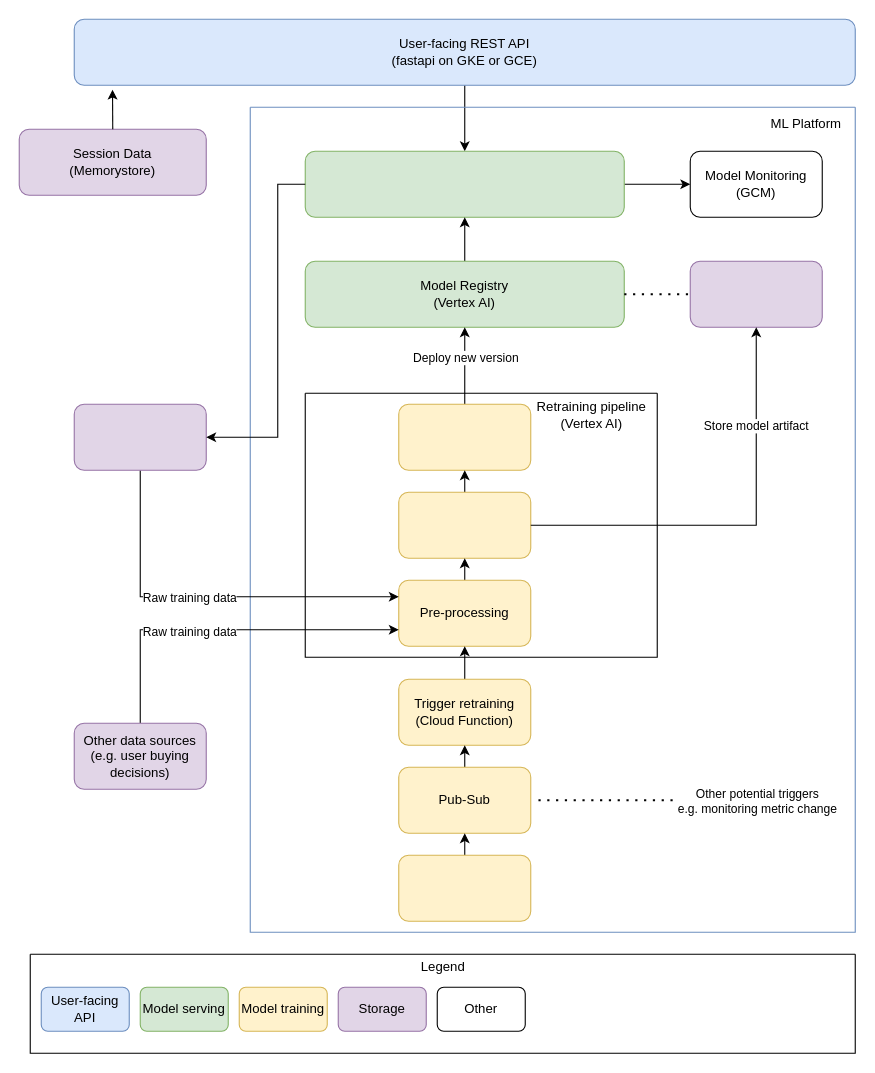
Image size: 875x1073. Some labels were removed from this diagram. Each missing label, with the centre of its shape:
Daily (Cloud Scheduler): [464,887]
Evaluation: [464,436]
Model Artifact Storage (GCS): [755,293]
Model Serving API (Vertex AI): [464,183]
Prediction Log storage (GCS): [139,436]
Training: [464,524]
